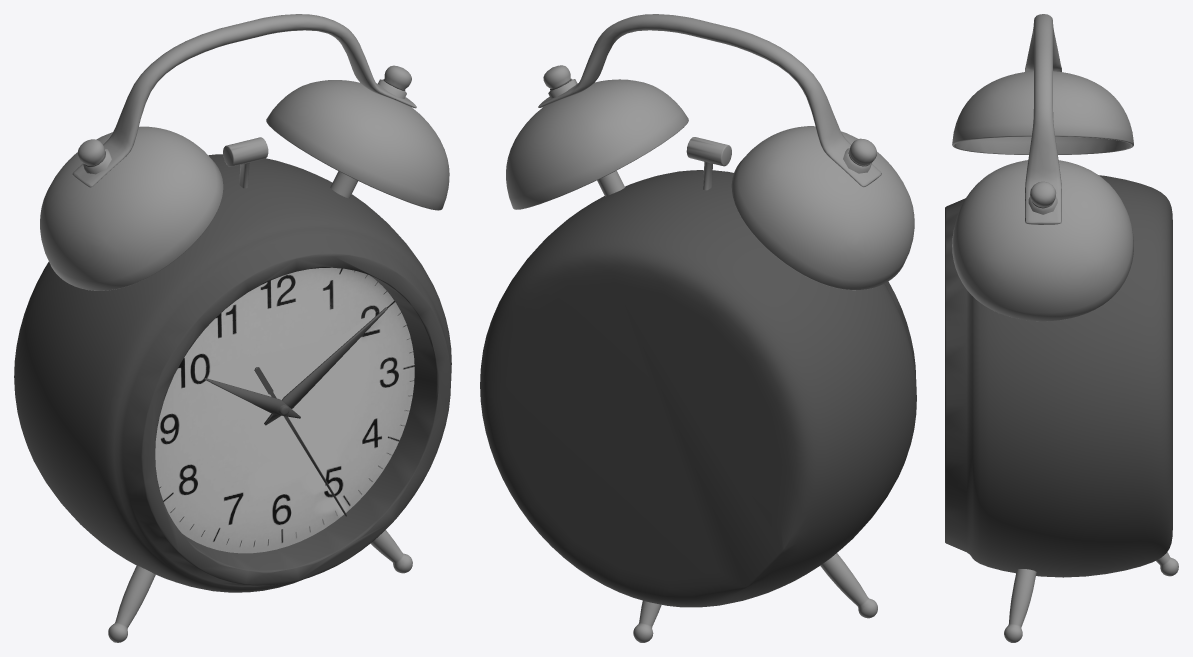
The model's file is ClockSimpler.fbx.
3 renders of one model, left to right at view 1: azimuth 30°, elevation 25°; view 2: azimuth 150°, elevation 25°; view 3: azimuth 270°, elevation 25°, orthographic. The views are drawn at different scales.
Parts seen in each view (by area): view 1: Model; view 2: Model; view 3: Model.
Part boxes in pixels (left/top/right/bottom): Model: left=14, top=14, right=451, bottom=642; Model: left=480, top=14, right=916, bottom=642; Model: left=945, top=14, right=1178, bottom=642.
Size of the model in its own units: 322 by 463 by 182.
